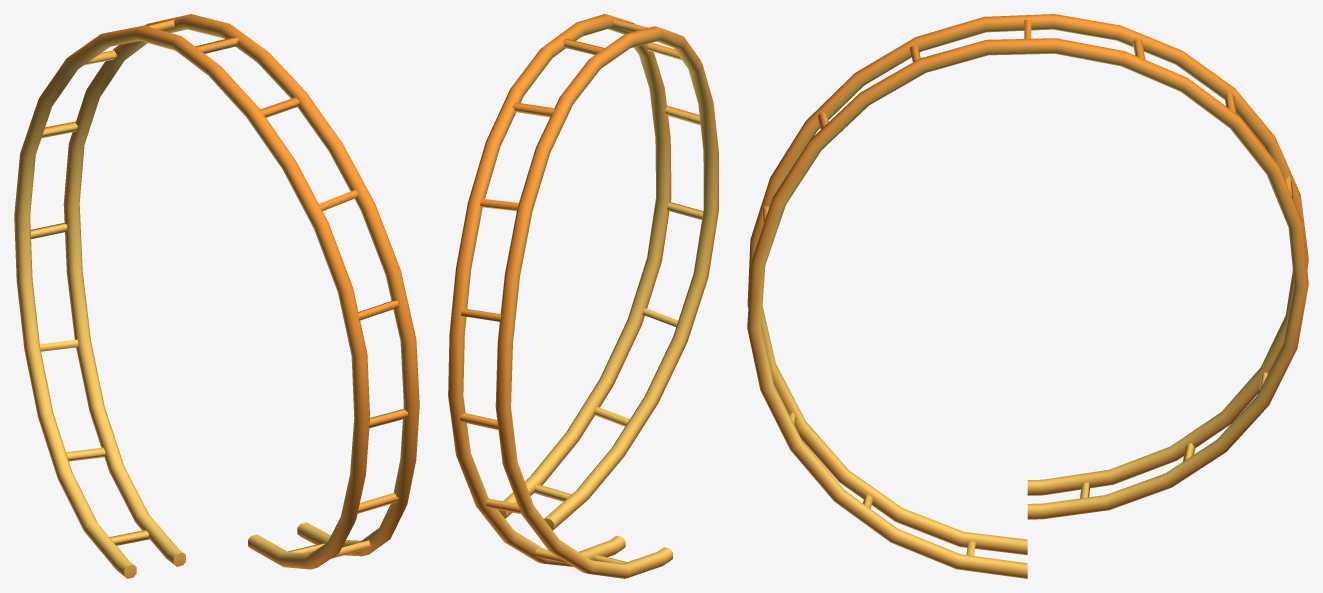
File: kenney-coaster-coaster-mouse-looping.glb
3 renders of one model, left to right at view 1: azimuth 30°, elevation 25°; view 2: azimuth 150°, elevation 25°; view 3: azimuth 270°, elevation 25°, orthographic. The views are drawn at different scales.
Parts seen in each view (by area): view 1: coaster-mouse-looping; view 2: coaster-mouse-looping; view 3: coaster-mouse-looping.
Boxes of the visible parts, <box> form: coaster-mouse-looping: <box>14,14,419,578</box>; coaster-mouse-looping: <box>448,14,718,578</box>; coaster-mouse-looping: <box>747,14,1308,578</box>.
Size of the model in its own units: 1.5 by 3.99 by 4.
Materials: 1 (1 with a texture image).
